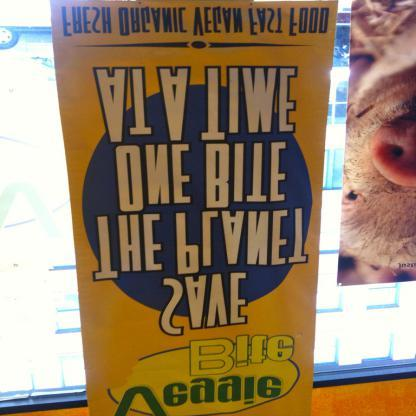boar: (337, 22, 416, 272)
